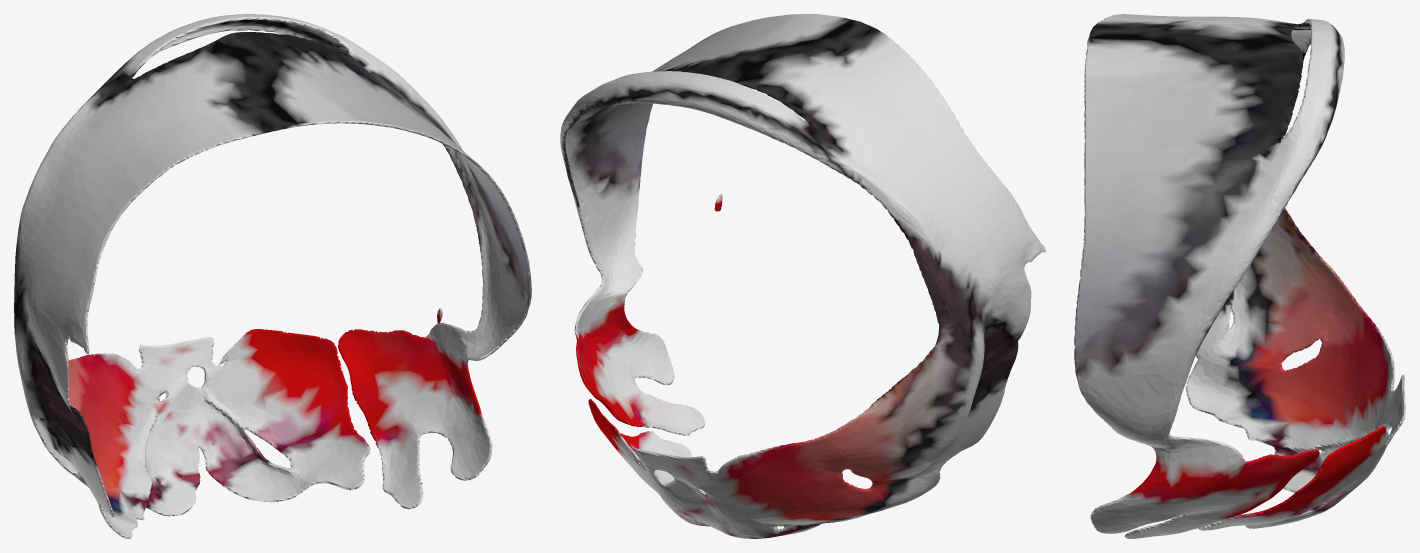
The model's file is ring_combat.glb.
The picture shows the model from 3 angles, left to right: view 1: azimuth 30°, elevation 25°; view 2: azimuth 150°, elevation 25°; view 3: azimuth 270°, elevation 25°; orthographic projection. The views are drawn at different scales.
Visible parts, largest first — view 1: geometry_0; view 2: geometry_0; view 3: geometry_0.
Part boxes in pixels (x1,y1,x2,y2): geometry_0: (14, 14, 531, 538); geometry_0: (560, 14, 1045, 538); geometry_0: (1074, 14, 1405, 538).
Size of the model in its own units: 0.5938 by 0.5954 by 0.3786.
